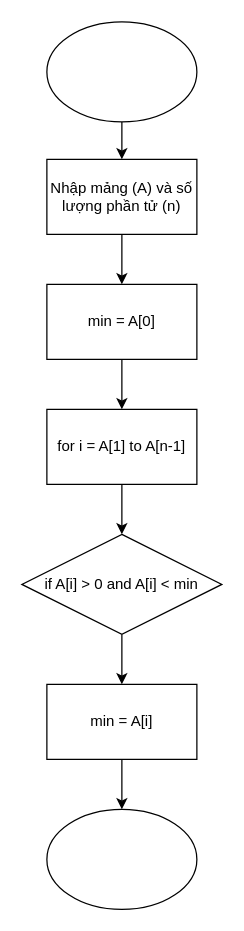
Image size: 244x931. Some labels were removed from this diagram. Here are the shapes that lost their labels. From the top down, the box of each, then its label:
(46, 21, 197, 122): Bắt đầu
(46, 808, 197, 909): Kết thúc
